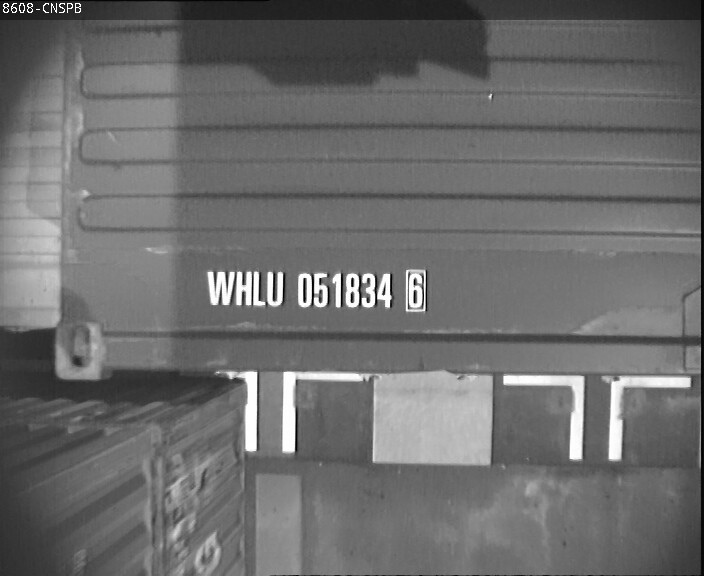groundmarker_1: (502, 373, 688, 460), (181, 367, 360, 452)
